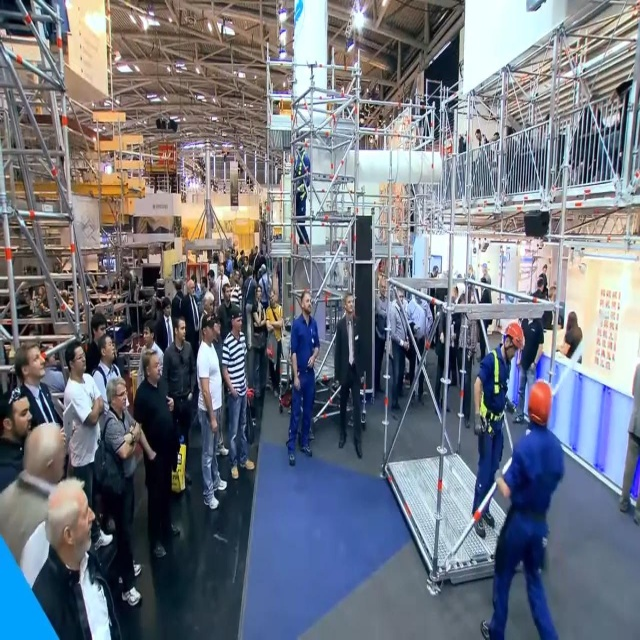Arnes_seguridad: (475, 339, 511, 452), (292, 144, 308, 206)
